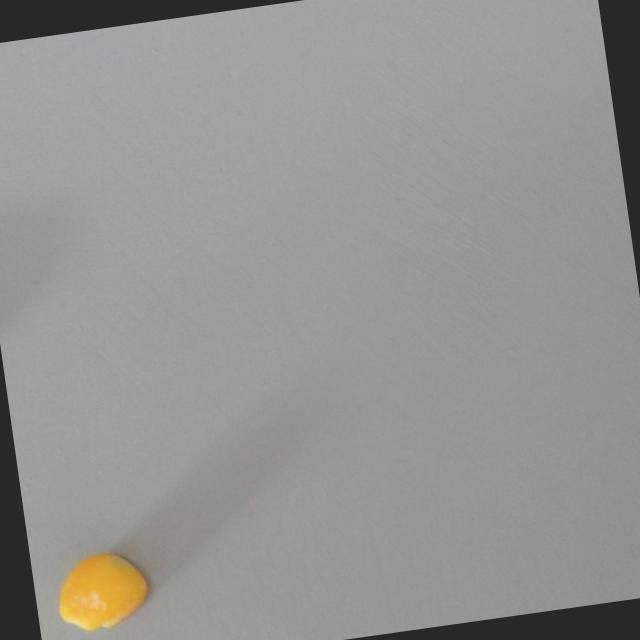no_canjicado: (51, 545, 154, 636)
